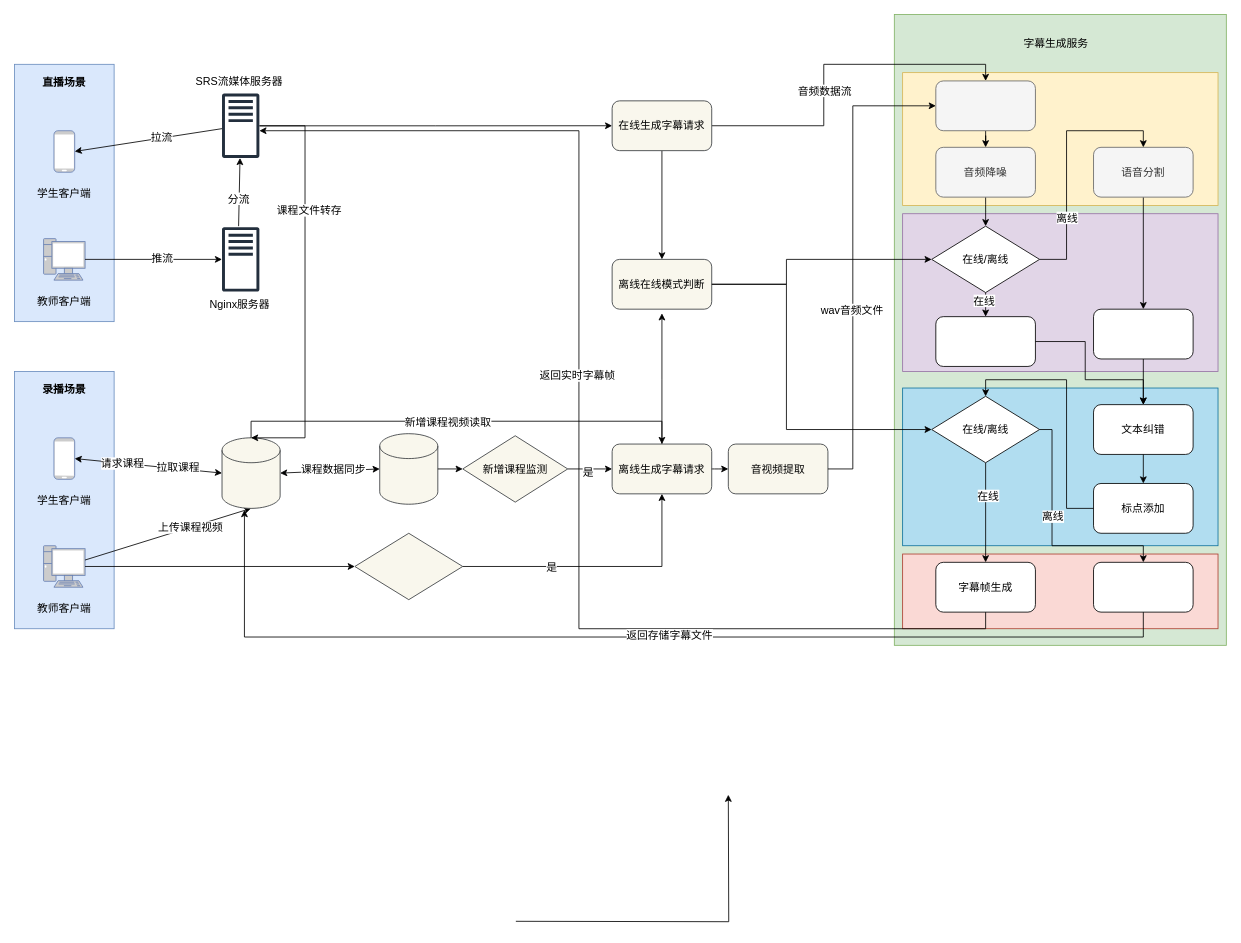
The diagram is 1241 pixels wide and 943 high, and some of its shapes have lost their labels. Here are the shapes that lost their labels. From the top down, the box of each, then its label:
(935, 80, 1035, 131): 通道和采样率转换
(935, 316, 1035, 366): 流式语音识别
(1093, 308, 1193, 359): 非流式语音识别
(221, 437, 280, 508): FastDFS文件存储集群
(379, 433, 438, 504): Mysql课程信息数据库
(354, 532, 463, 600): 自动字幕生成开关
(1093, 561, 1193, 612): 字幕文件生成
